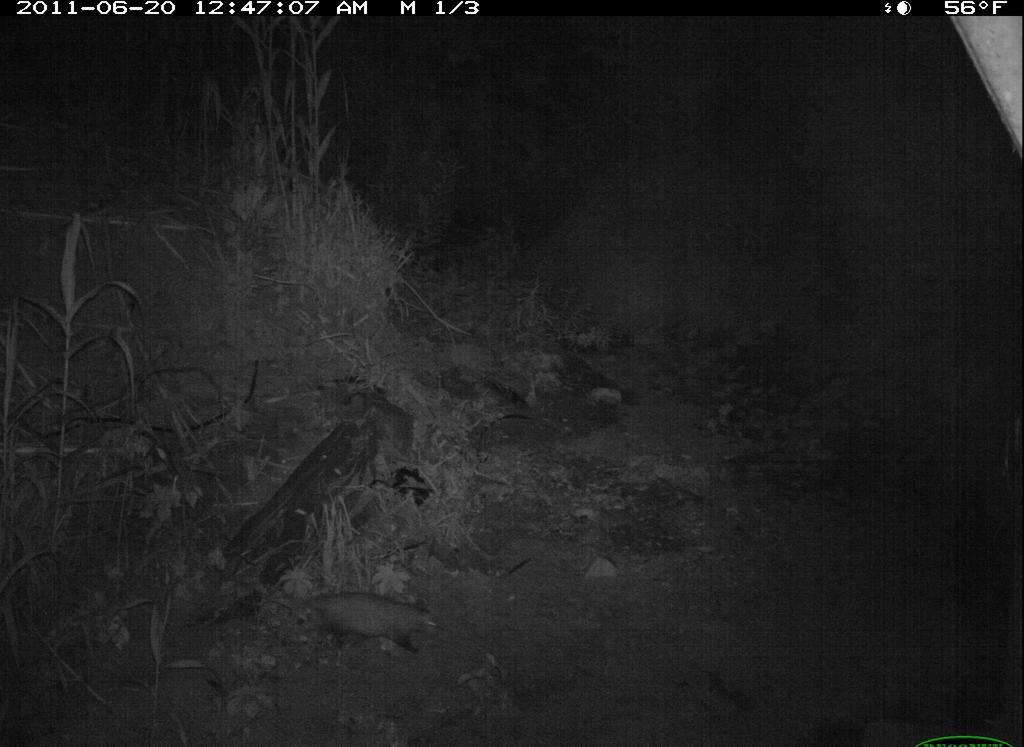opossum: (277, 579, 452, 670)
